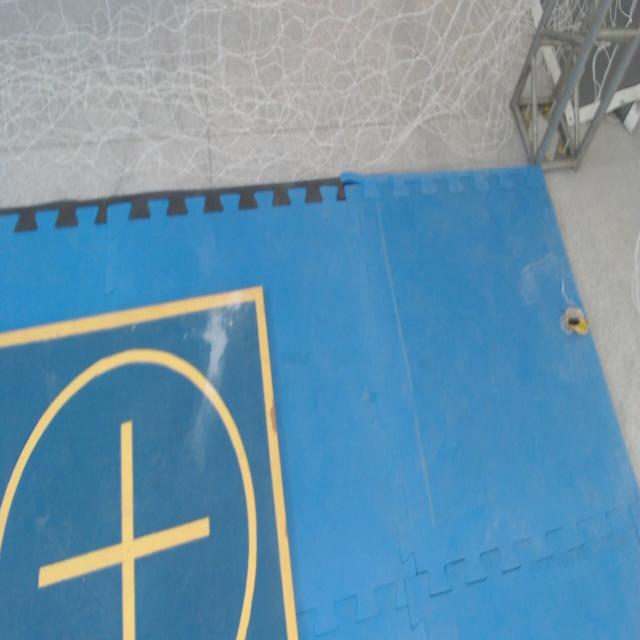base_pouso: (1, 285, 300, 639)
